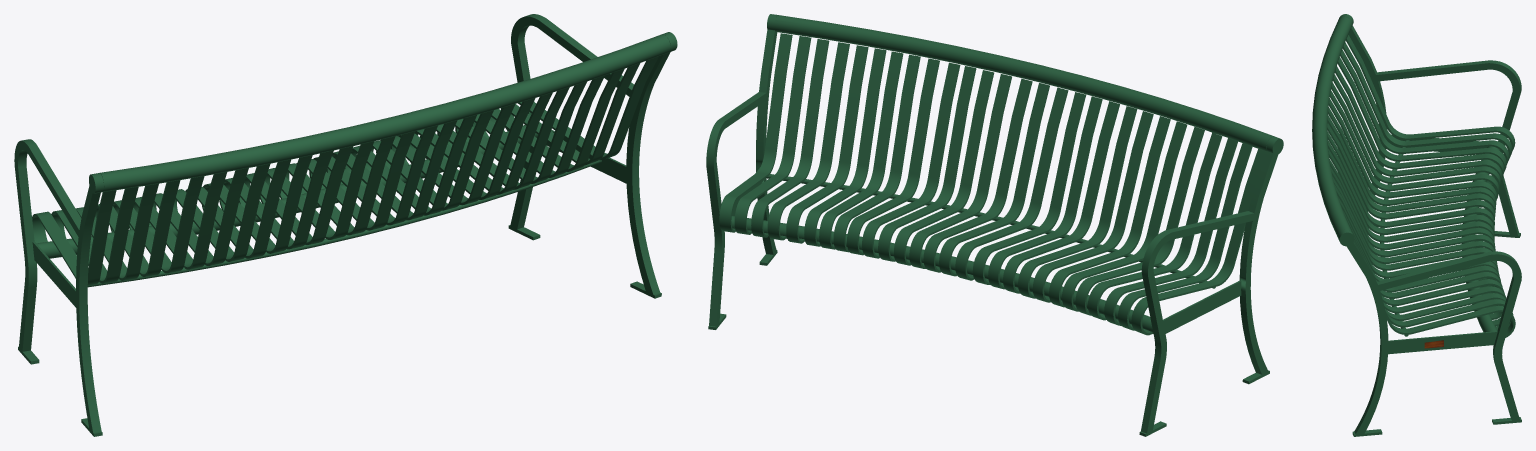
3 views of the same model, side by side, from view 1: azimuth 30°, elevation 25°; view 2: azimuth 150°, elevation 25°; view 3: azimuth 270°, elevation 25° (orthographic). The views are drawn at different scales.
Visible parts, largest first — view 1: mesh1_mesh1-geometry, mesh2_mesh2-geometry, mesh4_mesh4-geometry, mesh12_mesh12-geometry, mesh14_mesh14-geometry, mesh24_mesh24-geometry, mesh34_mesh34-geometry, mesh11_mesh11-geometry, mesh28_mesh28-geometry, mesh29_mesh29-geometry, mesh25_mesh25-geometry, mesh30_mesh30-geometry (+20 smaller); view 2: mesh1_mesh1-geometry, mesh2_mesh2-geometry, mesh4_mesh4-geometry, mesh20_mesh20-geometry, mesh22_mesh22-geometry, mesh32_mesh32-geometry, mesh13_mesh13-geometry, mesh18_mesh18-geometry, mesh33_mesh33-geometry, mesh5_mesh5-geometry, mesh23_mesh23-geometry, mesh27_mesh27-geometry (+20 smaller); view 3: mesh1_mesh1-geometry, mesh2_mesh2-geometry, mesh14_mesh14-geometry, mesh8_mesh8-geometry, mesh6_mesh6-geometry, mesh12_mesh12-geometry, mesh9_mesh9-geometry, mesh11_mesh11-geometry, mesh24_mesh24-geometry, mesh34_mesh34-geometry, mesh31_mesh31-geometry, mesh28_mesh28-geometry (+21 smaller).
Boxes of the visible parts, x1,y1,x2,y2 form: mesh1_mesh1-geometry: (100, 14, 677, 298); mesh2_mesh2-geometry: (14, 139, 103, 436); mesh4_mesh4-geometry: (87, 56, 658, 287); mesh12_mesh12-geometry: (32, 190, 116, 285); mesh14_mesh14-geometry: (51, 187, 138, 283); mesh24_mesh24-geometry: (129, 172, 227, 269); mesh34_mesh34-geometry: (173, 163, 270, 261); mesh11_mesh11-geometry: (110, 176, 204, 273); mesh28_mesh28-geometry: (149, 168, 248, 265); mesh29_mesh29-geometry: (219, 150, 333, 249); mesh25_mesh25-geometry: (280, 136, 395, 235); mesh30_mesh30-geometry: (239, 146, 353, 244); mesh1_mesh1-geometry: (706, 14, 1274, 329); mesh2_mesh2-geometry: (1139, 136, 1283, 436); mesh4_mesh4-geometry: (719, 33, 1215, 288); mesh20_mesh20-geometry: (786, 45, 868, 243); mesh22_mesh22-geometry: (955, 87, 1068, 280); mesh32_mesh32-geometry: (767, 42, 849, 240); mesh13_mesh13-geometry: (804, 48, 886, 246); mesh18_mesh18-geometry: (923, 78, 1032, 272); mesh33_mesh33-geometry: (819, 51, 903, 249); mesh5_mesh5-geometry: (734, 36, 811, 234); mesh23_mesh23-geometry: (894, 70, 994, 265); mesh27_mesh27-geometry: (751, 39, 829, 237); mesh1_mesh1-geometry: (1312, 17, 1521, 436); mesh2_mesh2-geometry: (1338, 14, 1521, 237); mesh14_mesh14-geometry: (1342, 42, 1512, 164); mesh8_mesh8-geometry: (1340, 49, 1509, 164); mesh6_mesh6-geometry: (1337, 57, 1506, 181); mesh12_mesh12-geometry: (1346, 35, 1515, 154); mesh9_mesh9-geometry: (1388, 331, 1497, 354); mesh11_mesh11-geometry: (1335, 66, 1504, 186); mesh24_mesh24-geometry: (1333, 74, 1502, 189); mesh34_mesh34-geometry: (1330, 90, 1499, 207); mesh31_mesh31-geometry: (1328, 98, 1496, 214); mesh28_mesh28-geometry: (1331, 82, 1500, 200).
Bounding box in the file's own units: 0.8592 × 0.3772 × 0.3456.
